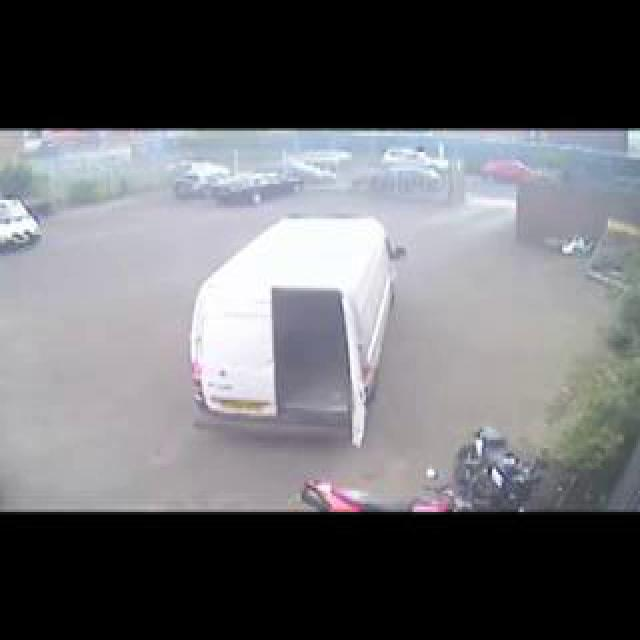stealing: (174, 135, 451, 481)
